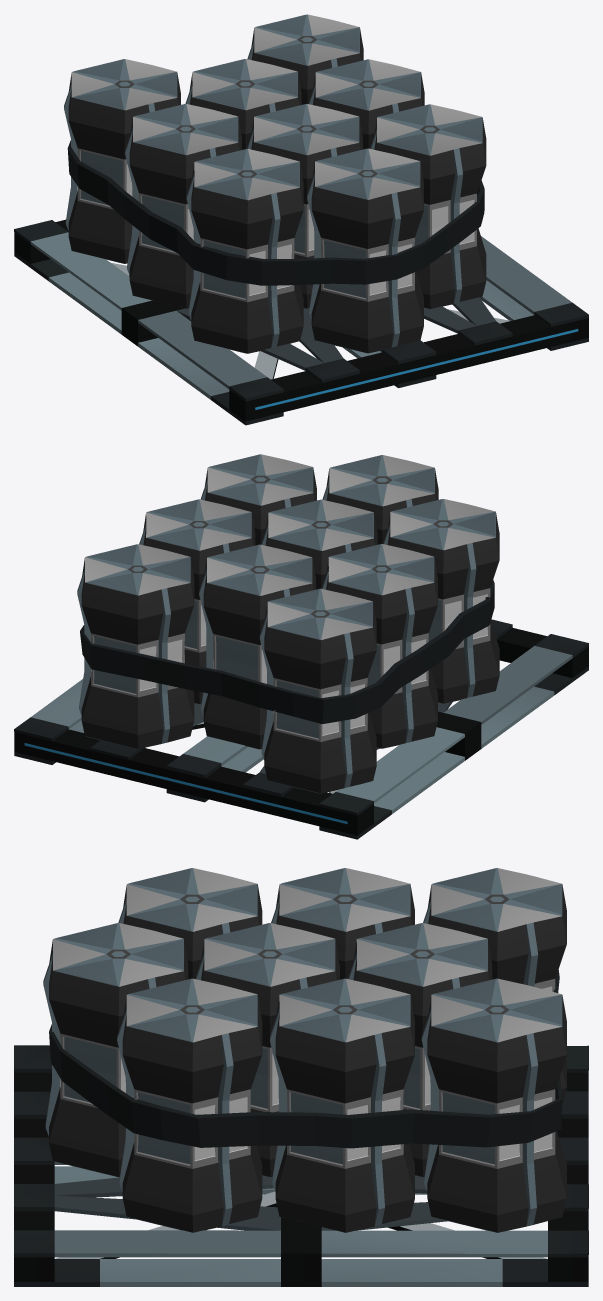
File: Future Large Bundle Pallet.fbx
3 views of the same model, one above another, from view 1: azimuth 30°, elevation 25°; view 2: azimuth 150°, elevation 25°; view 3: azimuth 270°, elevation 25° (orthographic). The views are drawn at different scales.
Visible parts, largest first — view 1: Future Large Bundle Pallet; view 2: Future Large Bundle Pallet; view 3: Future Large Bundle Pallet.
Part boxes in pixels (<box>): Future Large Bundle Pallet: <box>14,14,588,425</box>; Future Large Bundle Pallet: <box>14,454,588,839</box>; Future Large Bundle Pallet: <box>14,868,588,1286</box>.
Size of the model in its own units: 247 by 573 by 490.
Materials: 1 (1 with a texture image).
